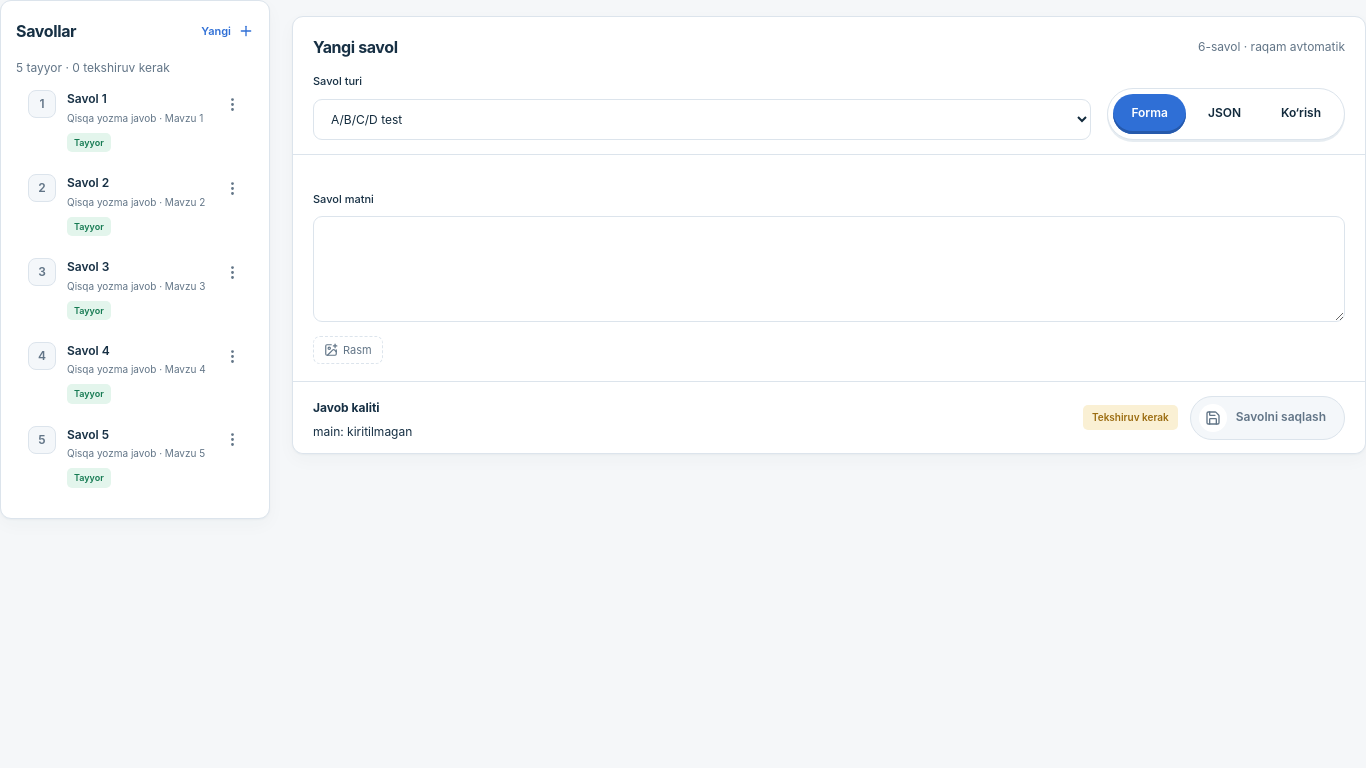
it: question positioning inside the existing workspace › clamps or ignores target 0
Step 1. Click the button "3 Savol 3" → point(116, 289), box [16,248,216,330]
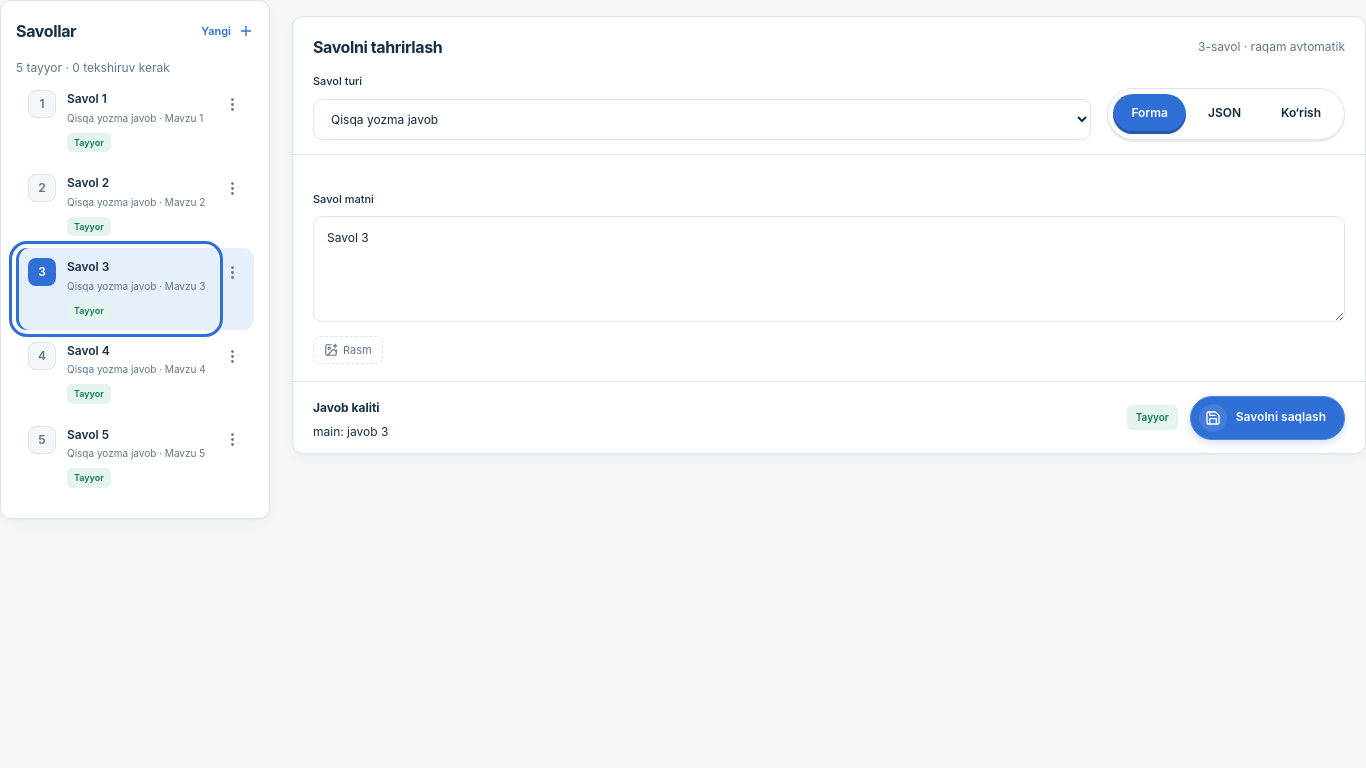
Step 2. Click the button named "3-savol amallari" → point(232, 272), box [216,256,248,288]
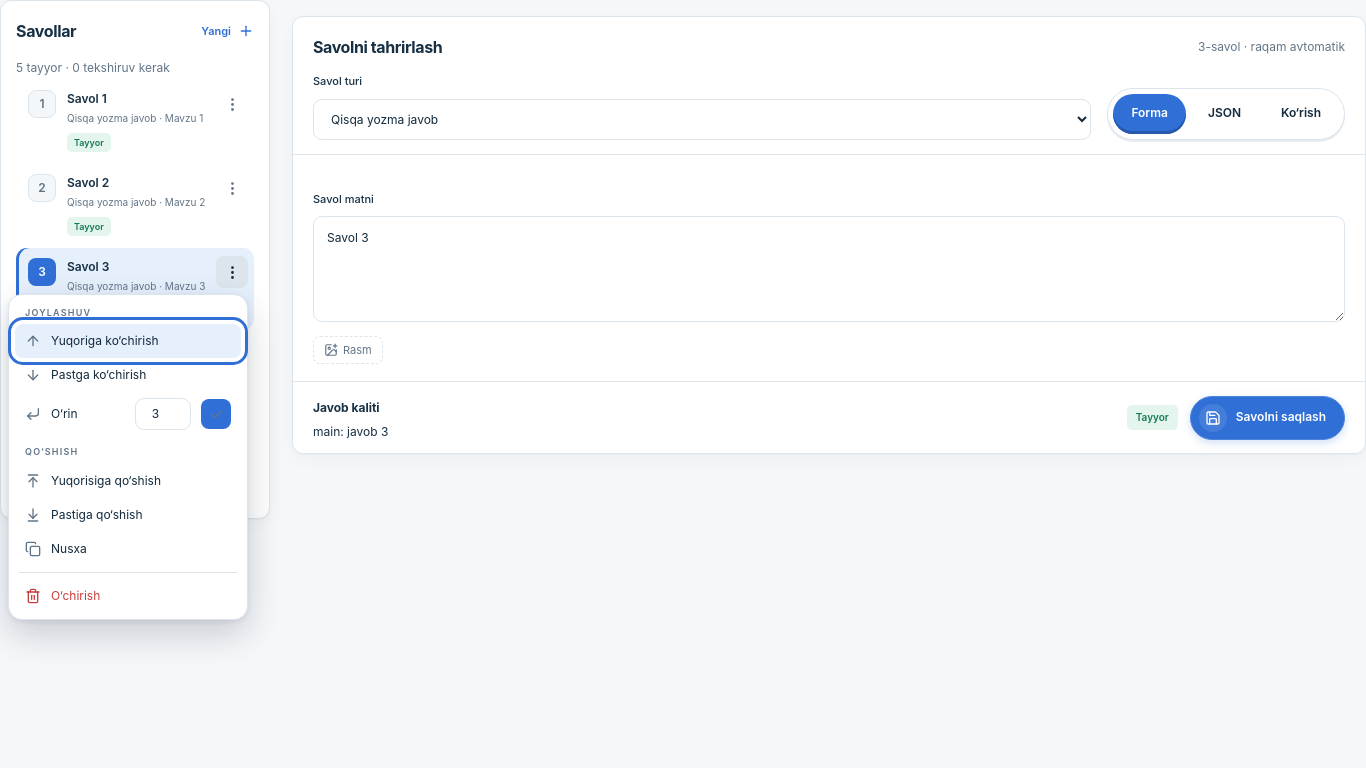
Step 3. Replace the text in the number field named "3-savolni ko‘chirish manzili" with "0" → point(163, 414), box [135,398,191,430]
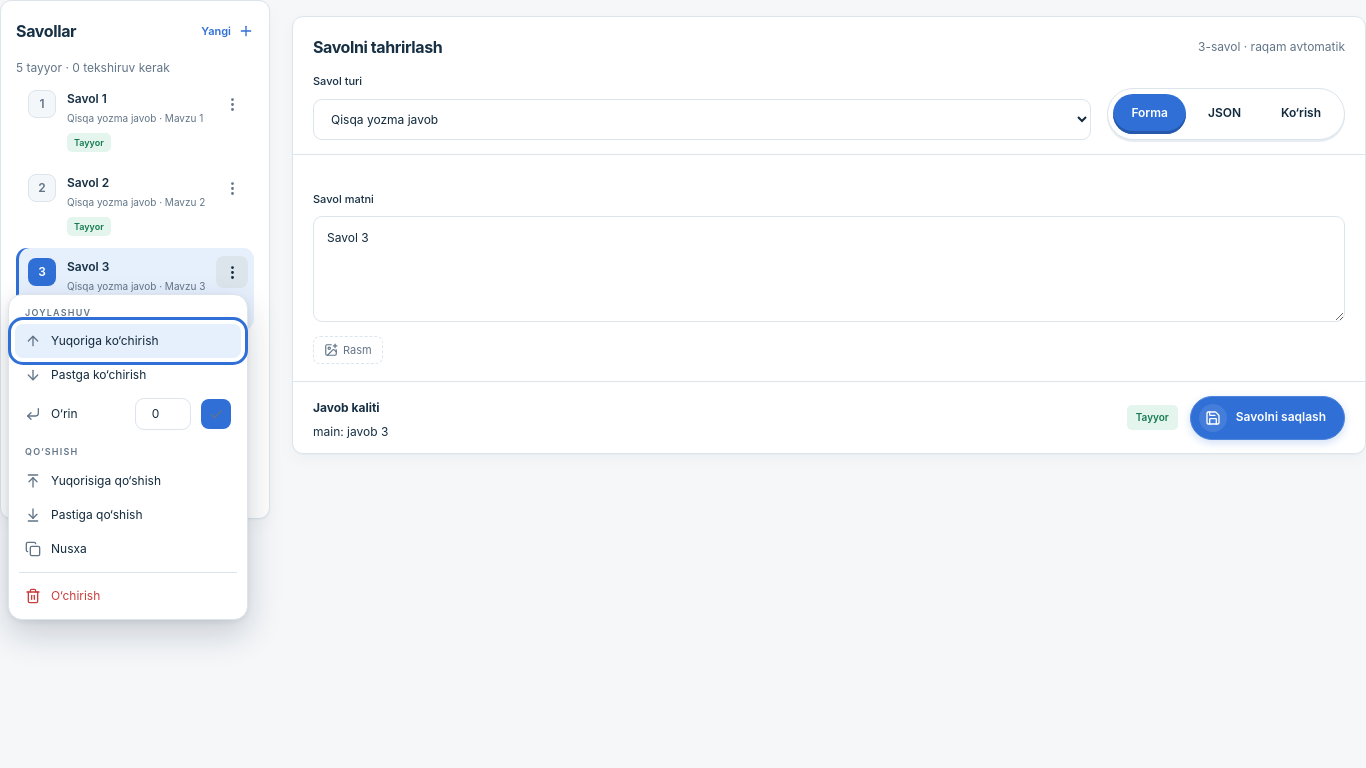
Step 4. Click the button named "3-savolni shu o‘ringa ko‘chirish" → point(216, 414), box [201,400,231,430]
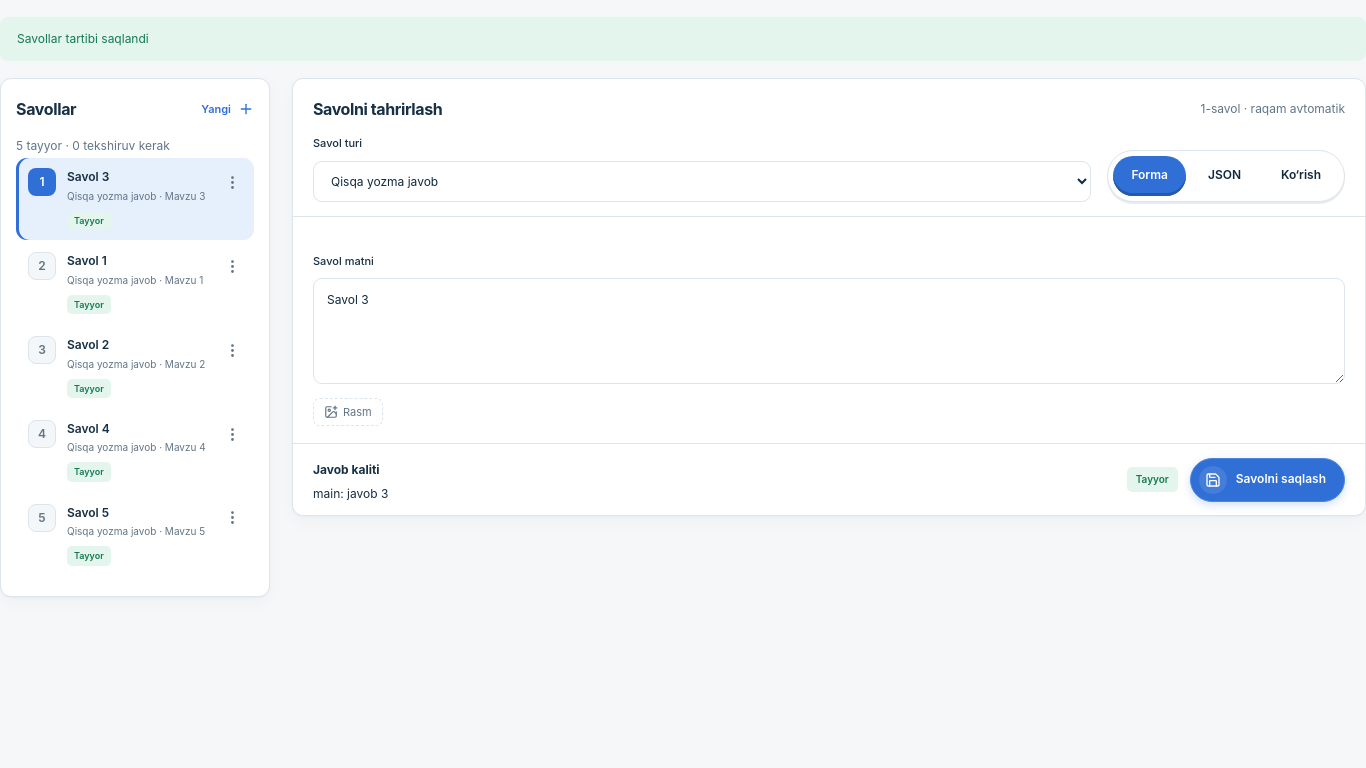
Now the text "Savollar tartibi saqlandi" is shown, box [0,17,1365,61]
